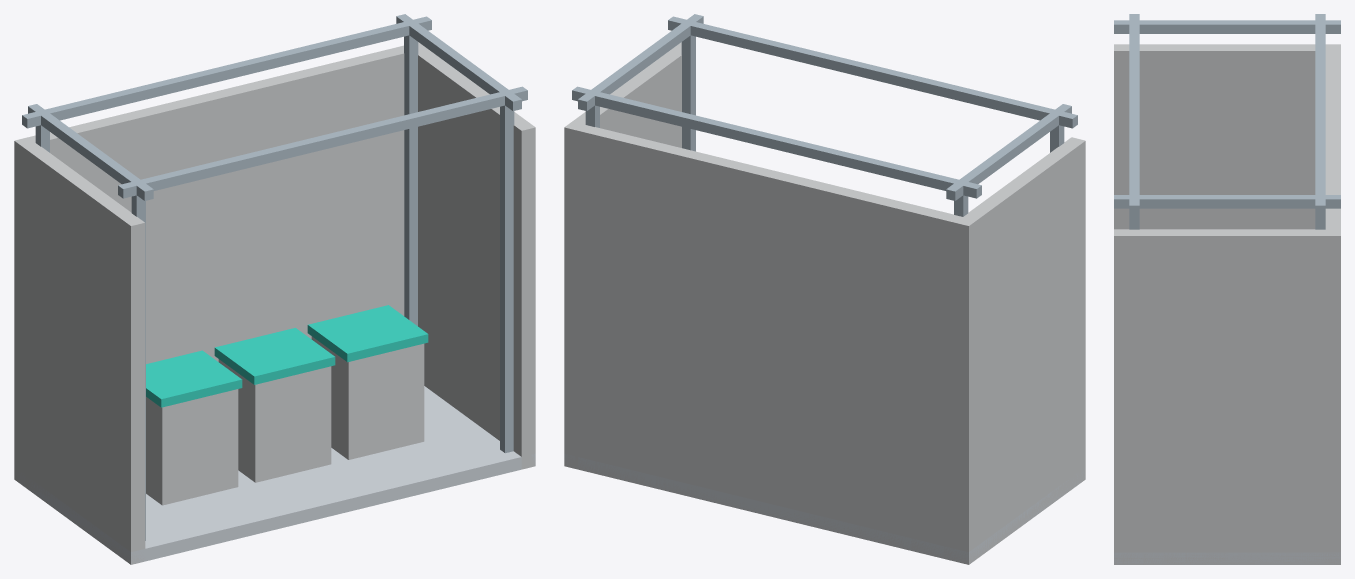
The picture shows the model from 3 angles, left to right: view 1: azimuth 30°, elevation 25°; view 2: azimuth 150°, elevation 25°; view 3: azimuth 270°, elevation 25°; orthographic projection. The views are drawn at different scales.
Parts seen in each view (by area): view 1: Exhibition Booth Concept; view 2: Exhibition Booth Concept; view 3: Exhibition Booth Concept.
Boxes of the visible parts, x1=… form: Exhibition Booth Concept: x1=14, y1=14, x2=535, y2=564; Exhibition Booth Concept: x1=564, y1=14, x2=1085, y2=564; Exhibition Booth Concept: x1=1114, y1=14, x2=1340, y2=564.
Size of the model in its own units: 4 by 3.49 by 2.
